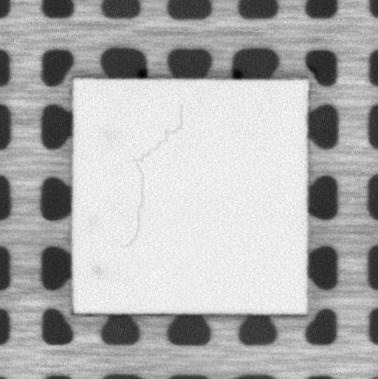DIE_CRACK: (122, 104, 184, 250)
